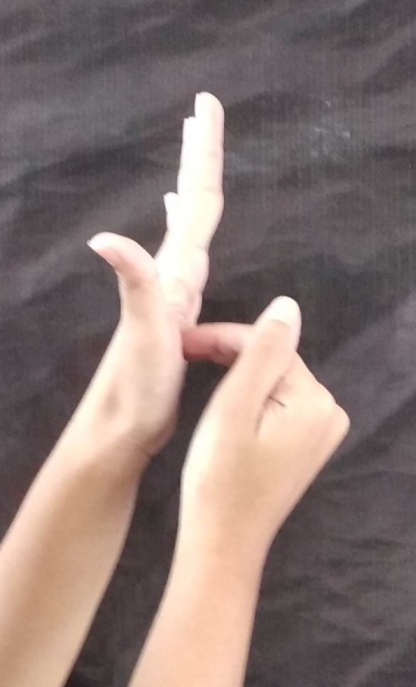ga: (92, 81, 352, 544)
